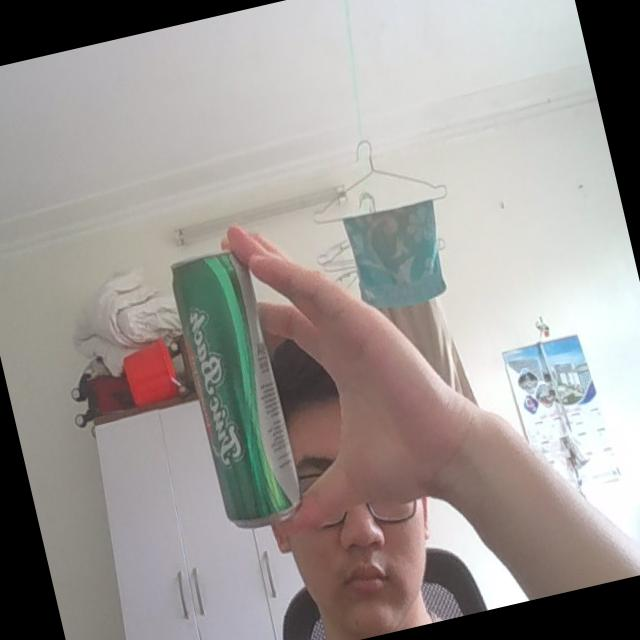Bia-Truc-Bach: (162, 238, 308, 530)
